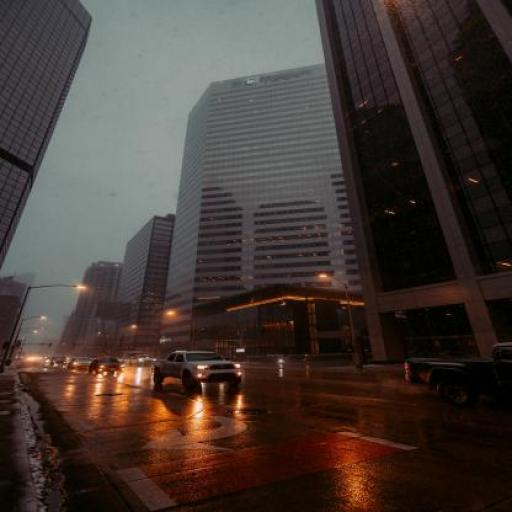street light: (6, 284, 87, 368), (318, 273, 364, 369), (11, 315, 47, 369), (166, 312, 196, 358)
